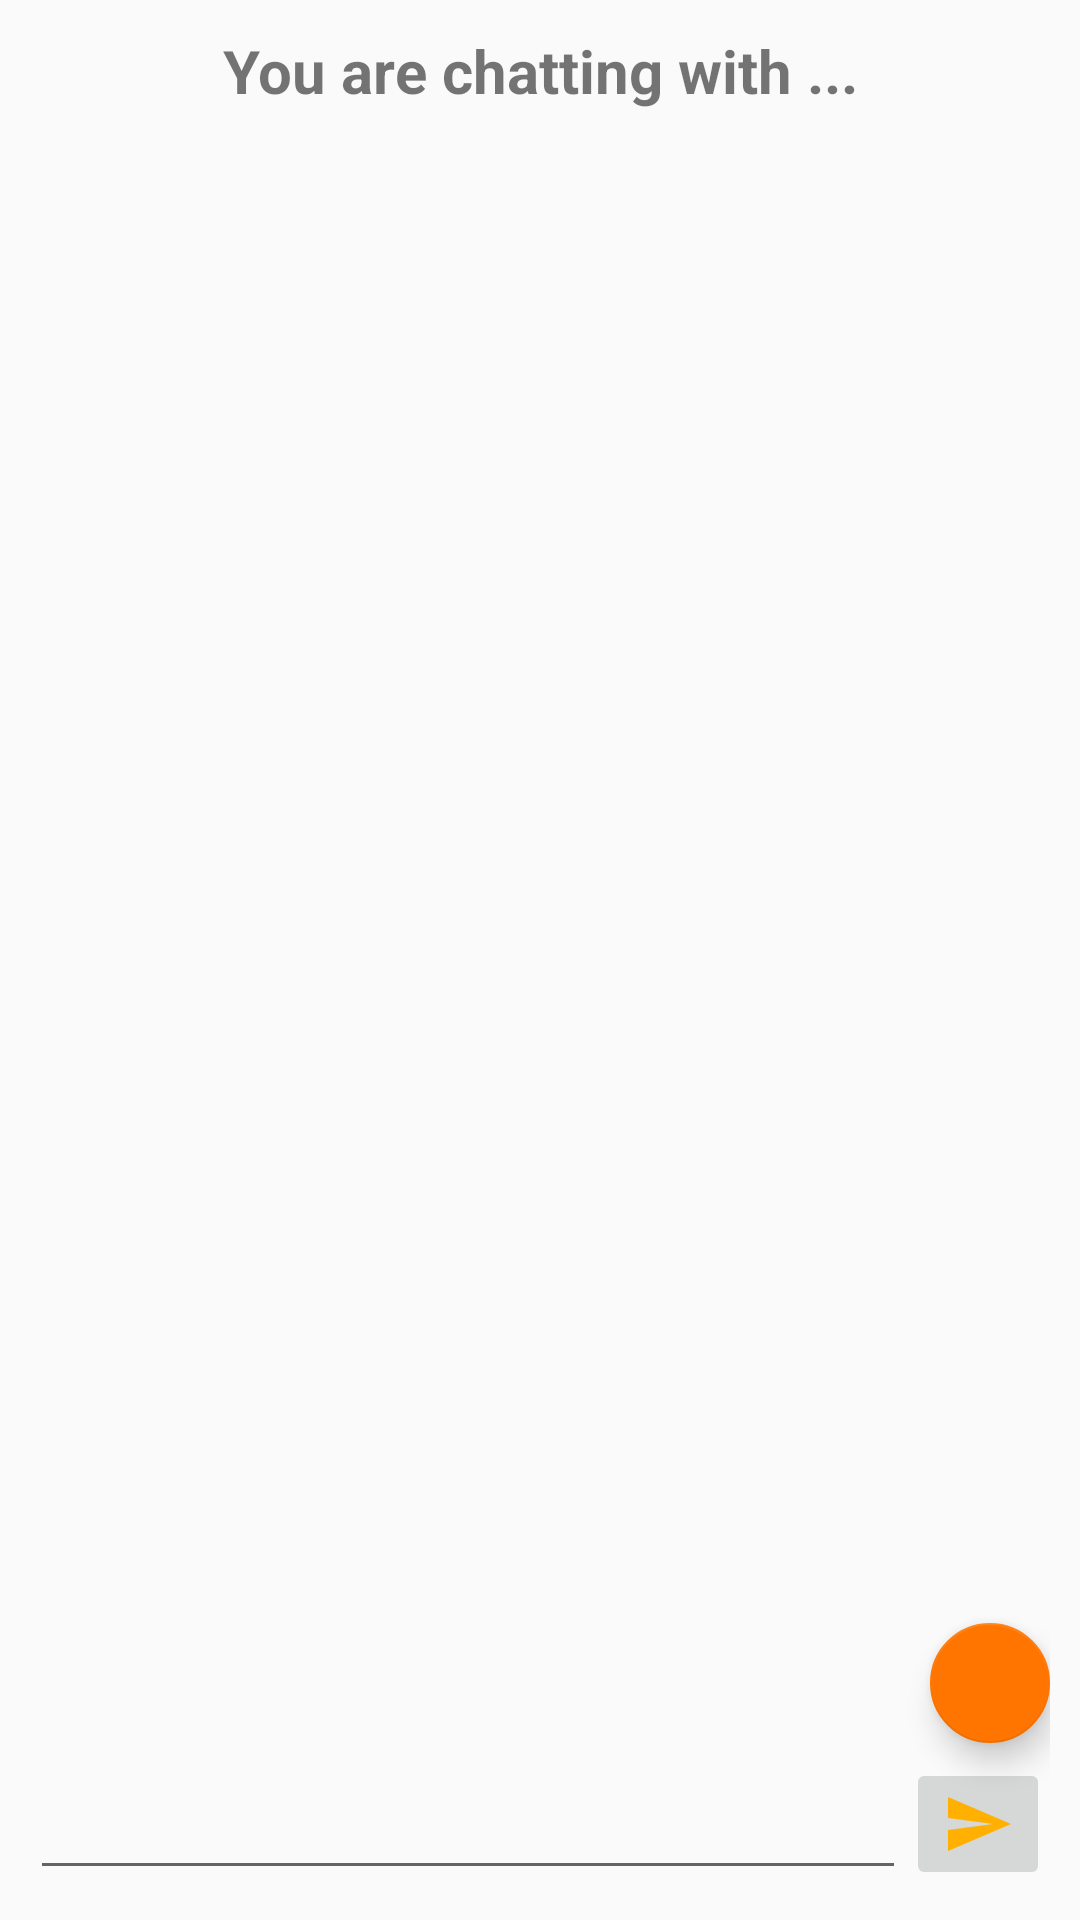

Where icons sit on this 1080w x 1920h app screen, as (x1=x1, y1=y1, x2=x2, y2=y2):
send: (x1=918, y1=1776, x2=1038, y2=1872)
